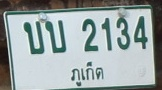txt21: (43, 19, 67, 54), (23, 21, 45, 55)
